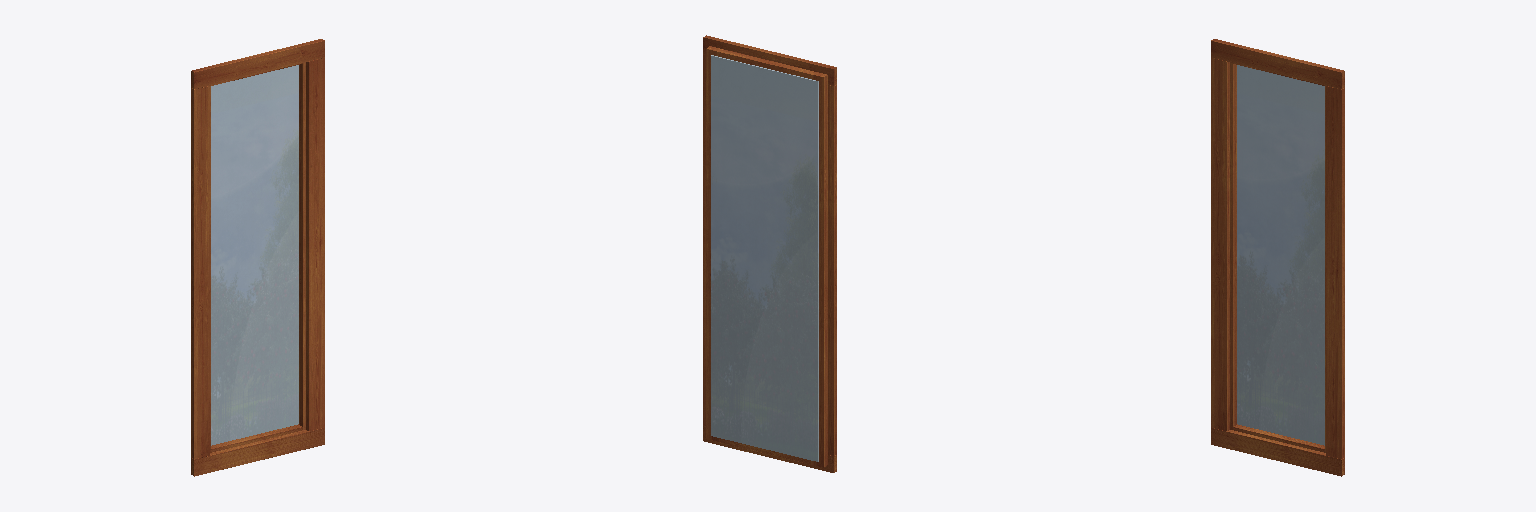
3 views of the same model, side by side, from view 1: azimuth 30°, elevation 25°; view 2: azimuth 150°, elevation 25°; view 3: azimuth 330°, elevation 25° (orthographic).
Parts seen in each view (by area): view 1: glass, trim_left, trim_right, trim_top, trim_bottom, window_right, window_bottom; view 2: glass, window_left, trim_left, window_right, trim_top, trim_right, window_top, trim_bottom; view 3: glass, trim_right, trim_left, trim_top, trim_bottom, window_left, window_bottom.
Boxes of the visible parts, x1,y1,x2,y2 form: glass: [211, 65, 298, 445]; trim_left: [191, 86, 209, 458]; trim_right: [306, 58, 324, 430]; trim_top: [191, 39, 324, 88]; trim_bottom: [191, 428, 324, 476]; window_right: [299, 62, 305, 429]; window_bottom: [211, 424, 302, 452]; glass: [711, 55, 818, 461]; window_left: [811, 72, 827, 467]; trim_left: [828, 85, 836, 455]; window_right: [706, 46, 722, 441]; trim_top: [703, 35, 836, 85]; trim_right: [703, 54, 705, 424]; window_top: [719, 49, 813, 78]; trim_bottom: [703, 424, 836, 472]; glass: [1237, 65, 1324, 445]; trim_right: [1326, 86, 1344, 458]; trim_left: [1211, 58, 1229, 430]; trim_top: [1211, 39, 1344, 88]; trim_bottom: [1211, 428, 1344, 476]; window_left: [1230, 62, 1236, 429]; window_bottom: [1233, 424, 1324, 452].
Size of the model in its own units: 20 by 59.02 by 1.92.
Materials: 5 (5 with a texture image).